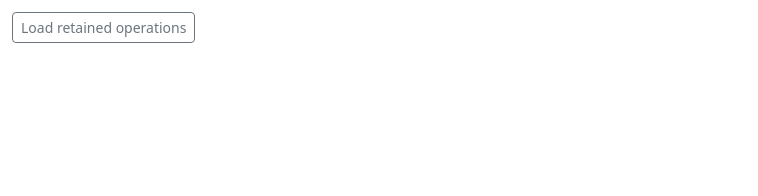
Test case: Release original-operation recovery after closing or reloading the form › keeps an unknown outcome visible when the status read fails
Click the button "Load retained operations": (104,28) [12,12,196,43]
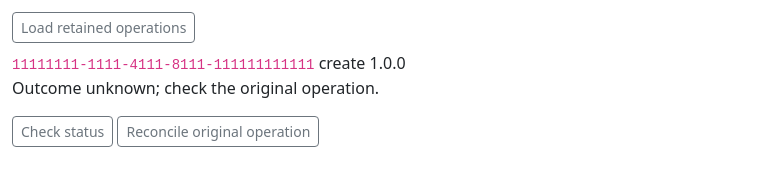
Expected: the text "11111111-1111-4111-8111-111111111111" is shown, [12,57,314,73]
Click the button "Check status": (63,132) [12,116,113,147]
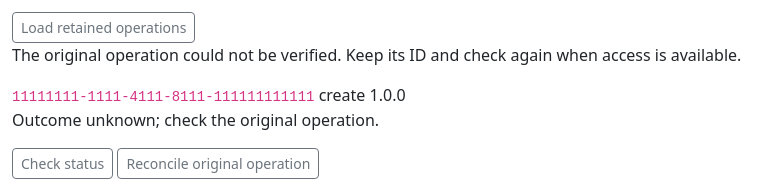
Expected: the text "11111111-1111-4111-8111-111111111111" is shown, [12,89,314,105]
Expected: the message is shown, [12,44,741,66]
